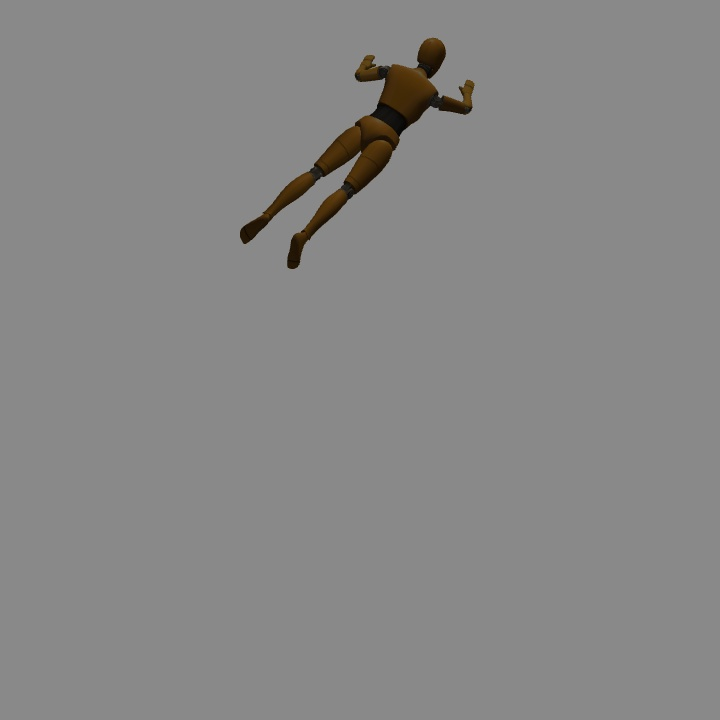victim: (242, 38, 476, 271)
